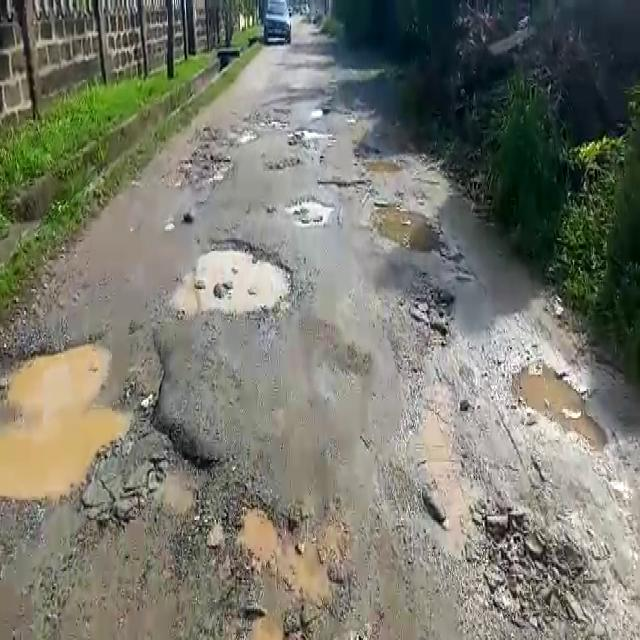Pothole: (0, 332, 227, 511), (210, 493, 352, 632), (464, 503, 595, 636), (169, 234, 306, 321), (504, 358, 616, 447), (370, 204, 446, 258), (162, 157, 232, 191), (284, 198, 333, 228), (316, 176, 376, 190), (361, 159, 404, 175)
